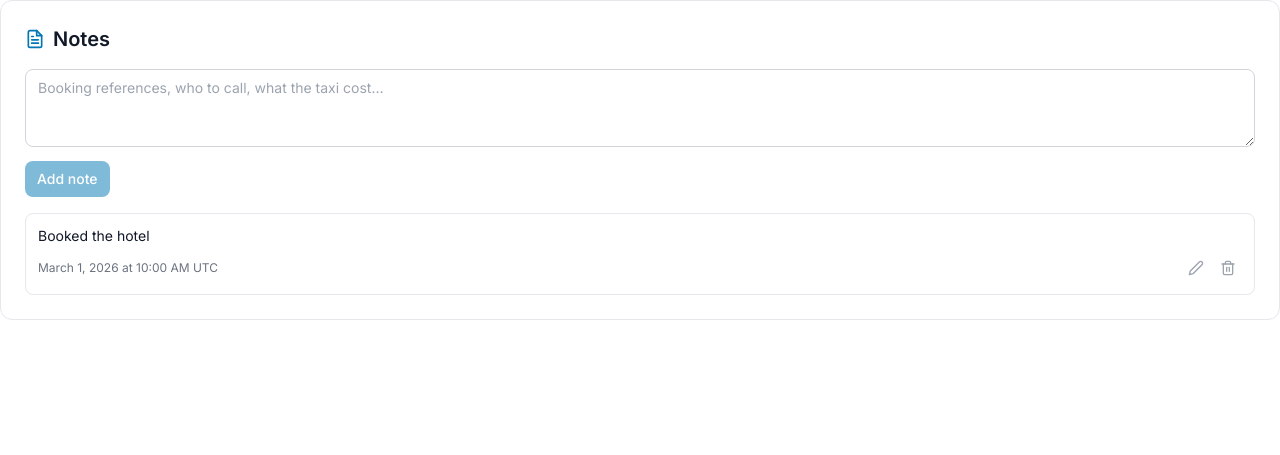
Test: a note is never shown as saved before it is saved › a failed edit keeps the editor open, holding the text
This screenshot has width=1280, height=455.
Click the button named "edit note" at coordinates (1196, 268), box [1182,254,1210,282]
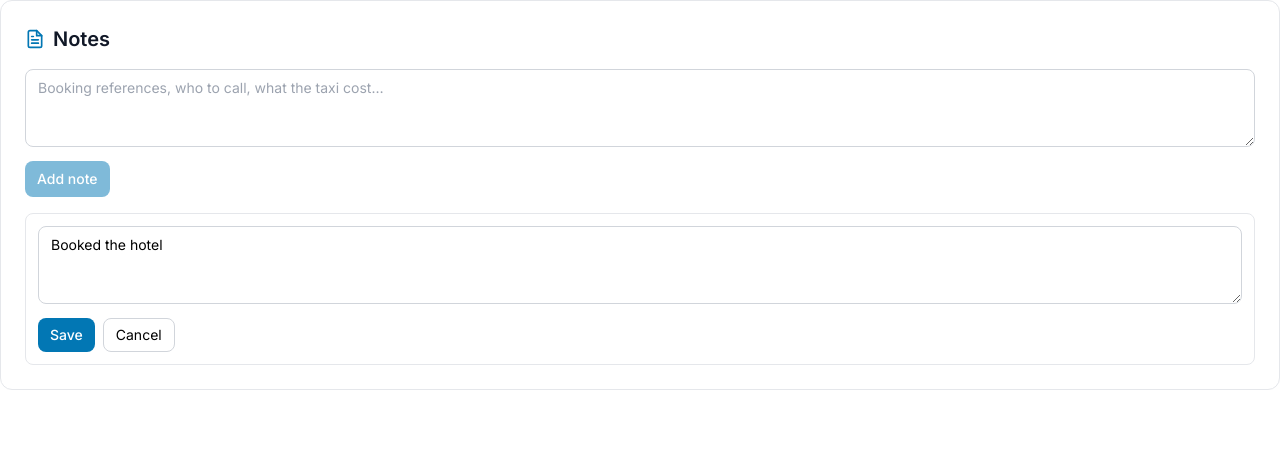
Replace the text in the text box named "edit note" with "Booked the hotel, room 3" at coordinates (640, 265), box [38,226,1242,304]
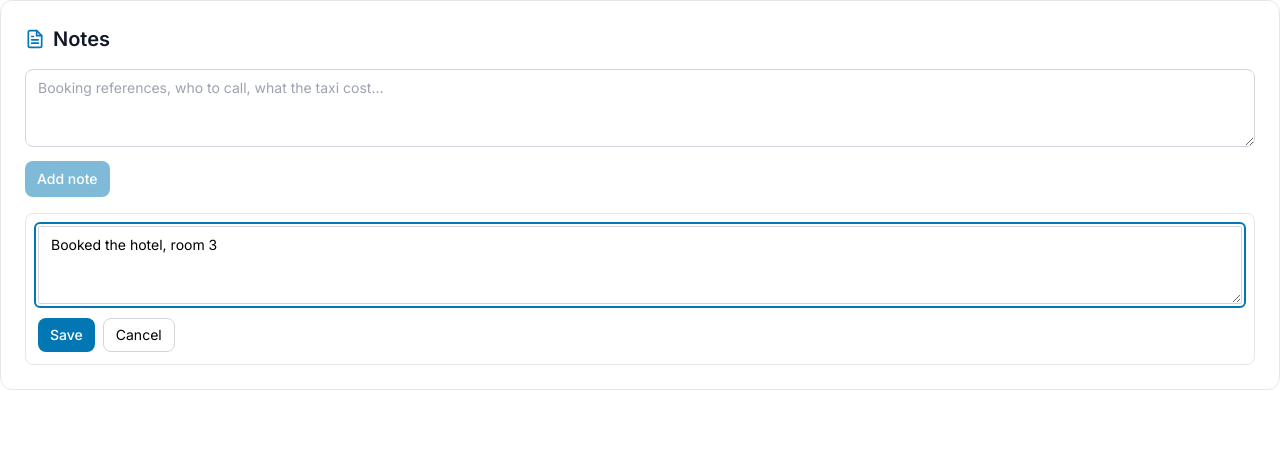
Click the button "Save" at coordinates (66, 335), box [38,318,95,352]
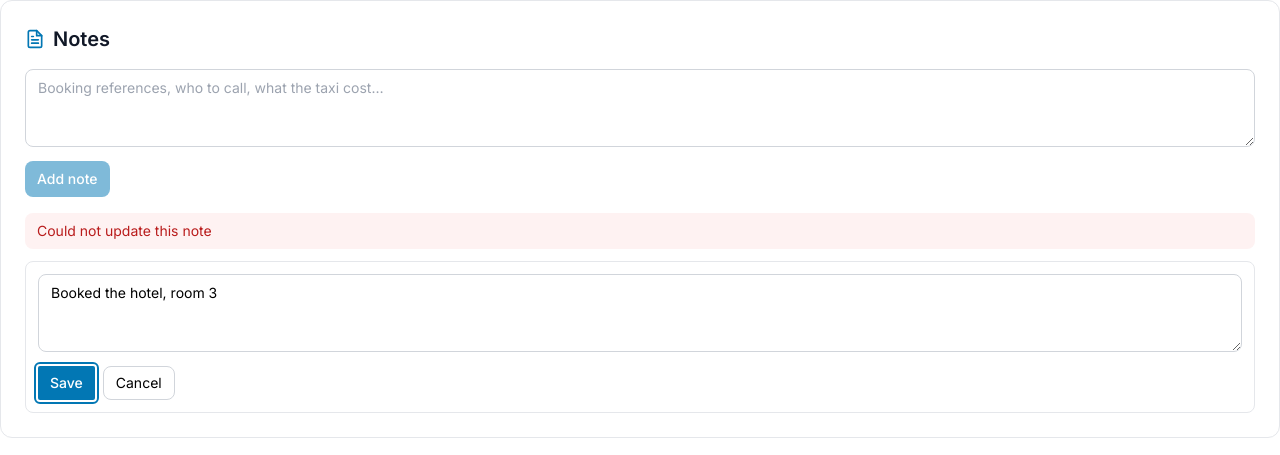
Result: the message reads "Could not update this note" at [37,222,212,239]
